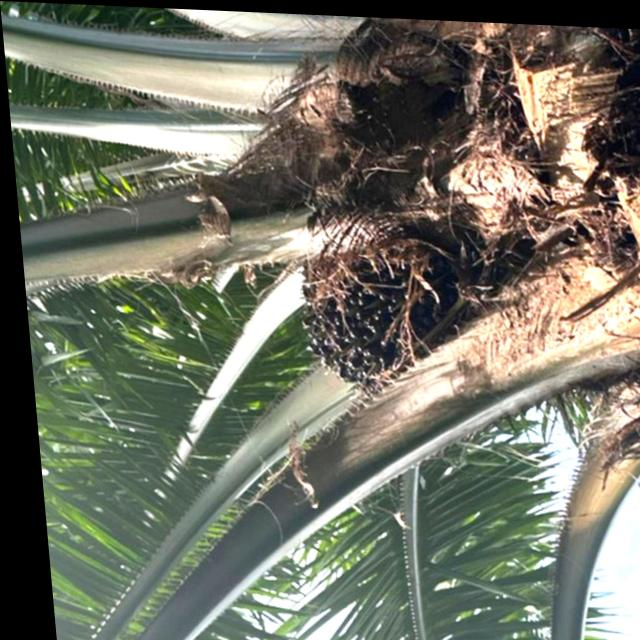almost: (273, 222, 469, 400)
